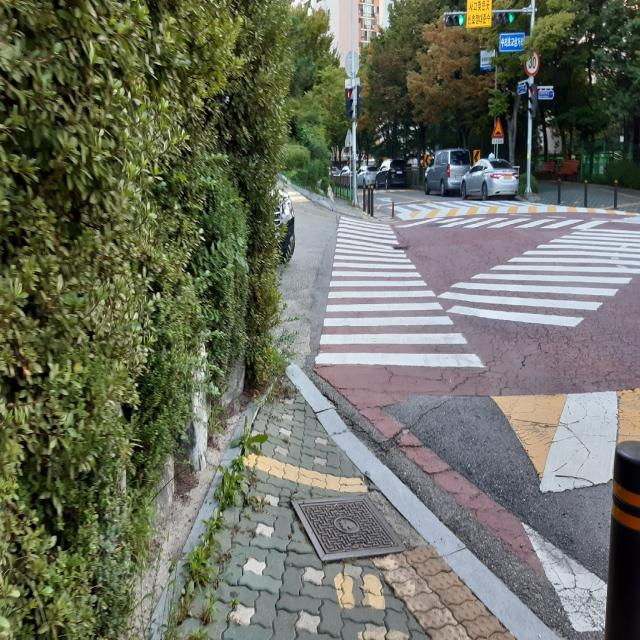횡단보도: (397, 200, 640, 336), (315, 213, 487, 371)
